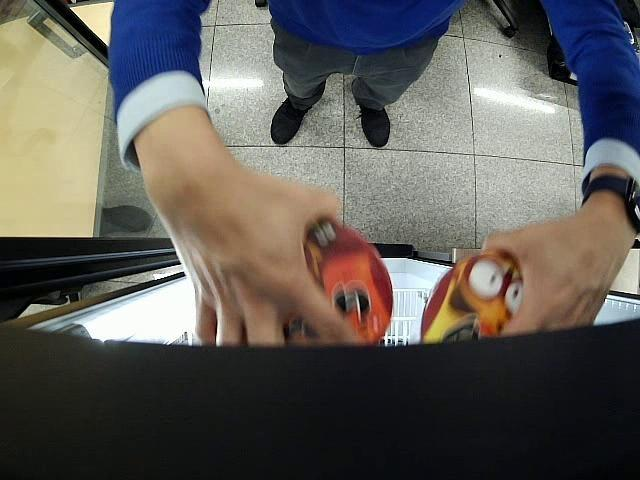05_nuguri_L: (214, 218, 393, 346), (421, 250, 524, 344)
